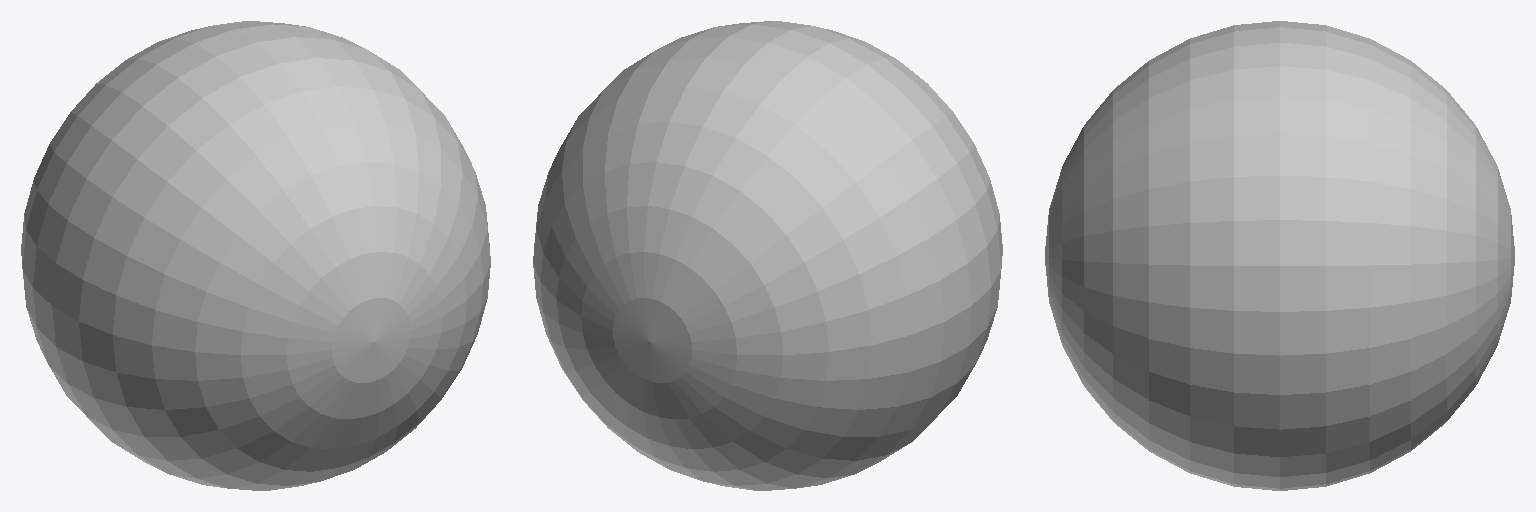
Rendered from testPlayer.obj.
The picture shows the model from 3 angles: view 1: azimuth 30°, elevation 25°; view 2: azimuth 150°, elevation 25°; view 3: azimuth 270°, elevation 25°; orthographic projection.
Parts seen in each view (by area): view 1: Sphere; view 2: Sphere; view 3: Sphere.
Boxes of the visible parts, box(x1,y1,x2,y2) form: Sphere: box(21, 21, 490, 490); Sphere: box(533, 21, 1002, 490); Sphere: box(1045, 21, 1514, 490).
Size of the model in its own units: 1 by 1 by 1.